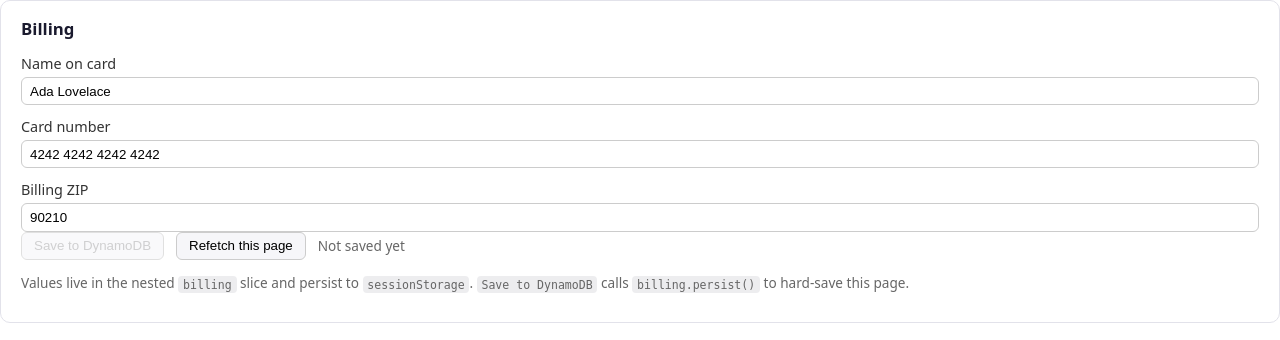
Test case: <BillingPage /> › editing a field stages it and flips dirty + Save
Step 1. Replace the text in the field labelled "Billing ZIP" with "00100" → (640, 217), box [21,203,1259,232]
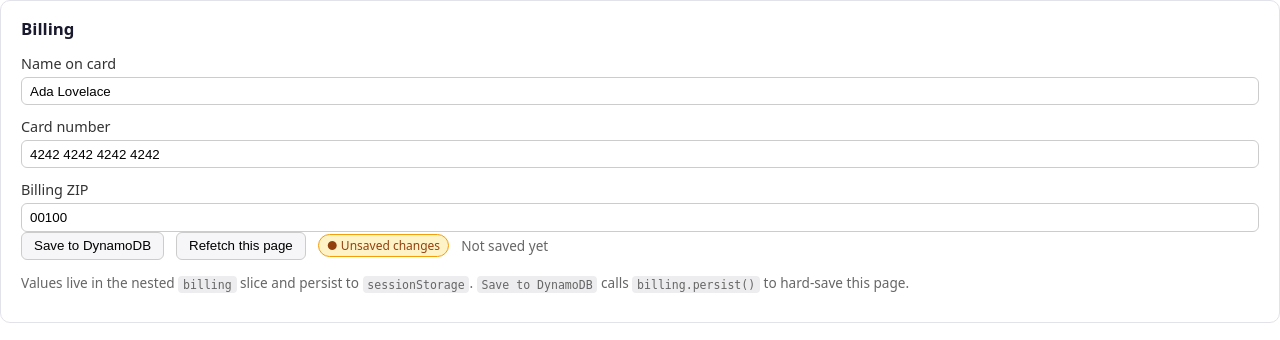
Expected: the text "● Unsaved changes" is shown, [318,234,449,258]
Expected: the button "Save to DynamoDB" is enabled, [21,232,164,260]
